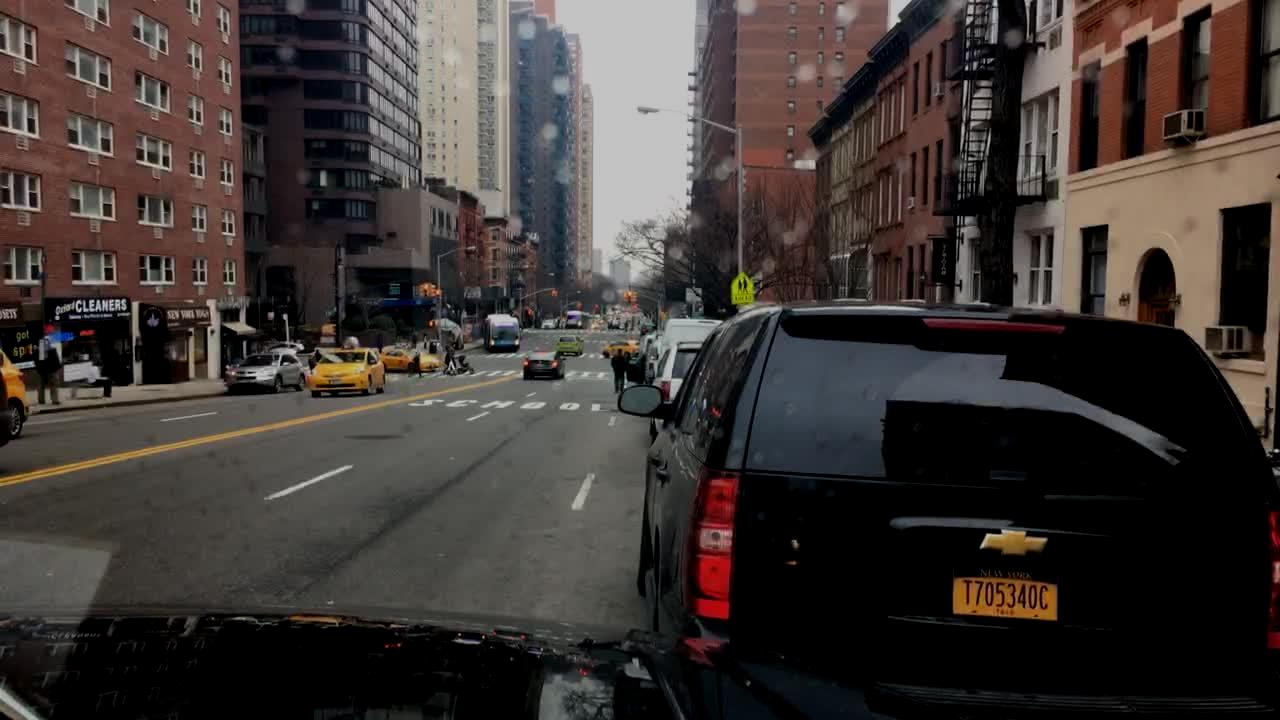chevrolet: (961, 520, 1065, 577)
